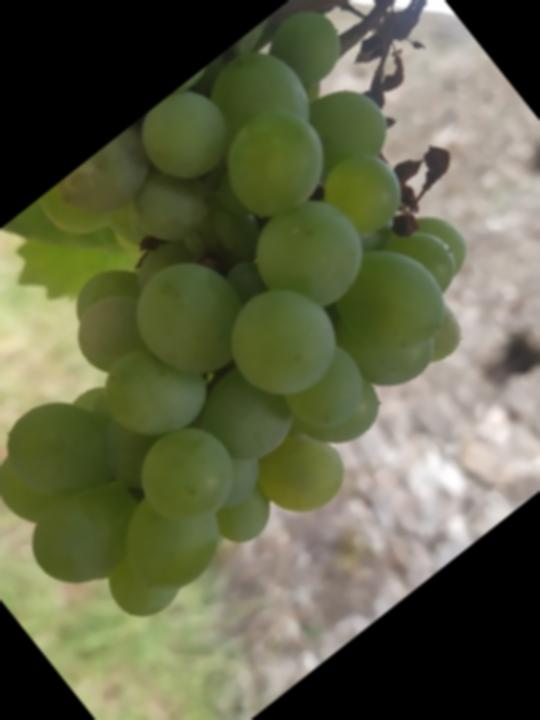grape: (0, 0, 540, 676)
